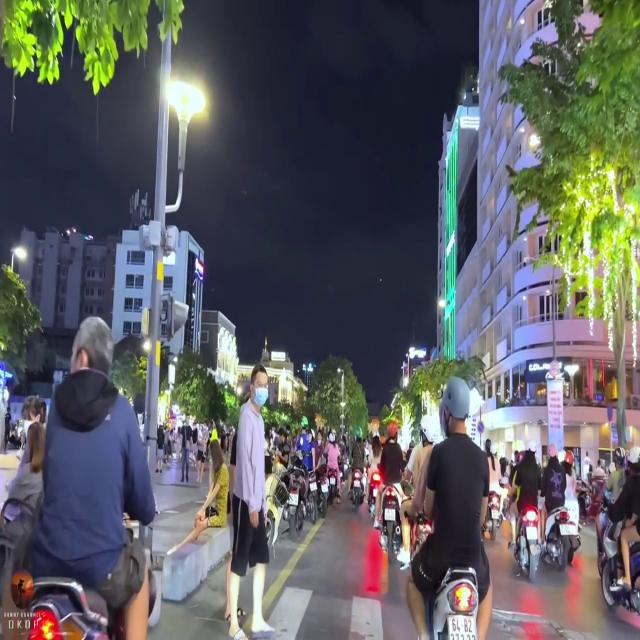bien_trang: (446, 610, 483, 640)
